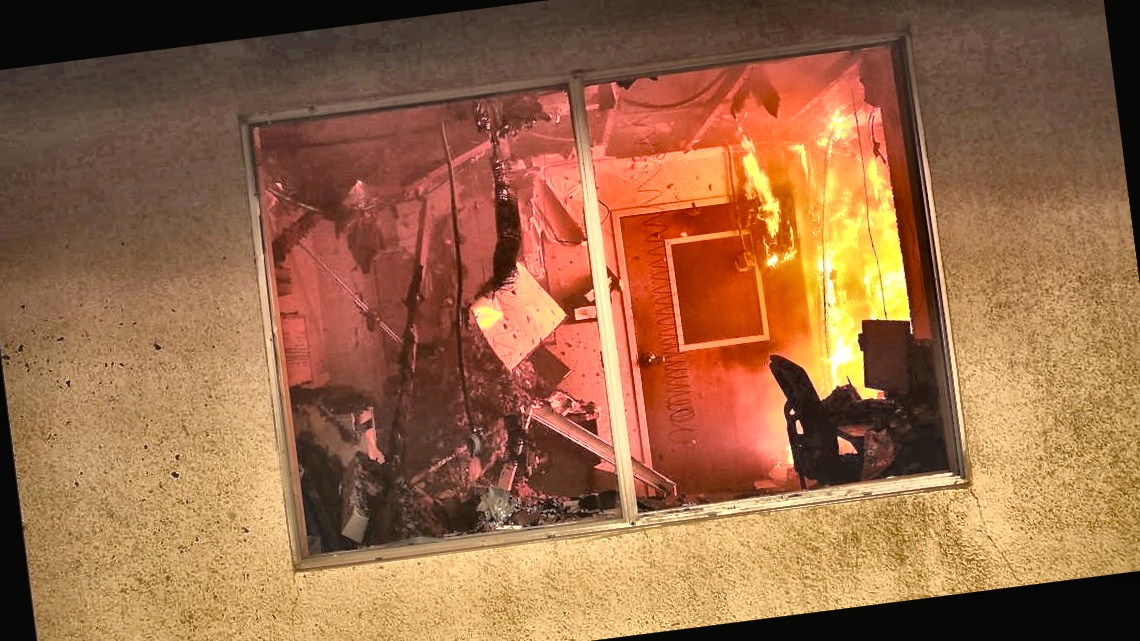fire: (718, 64, 939, 415)
